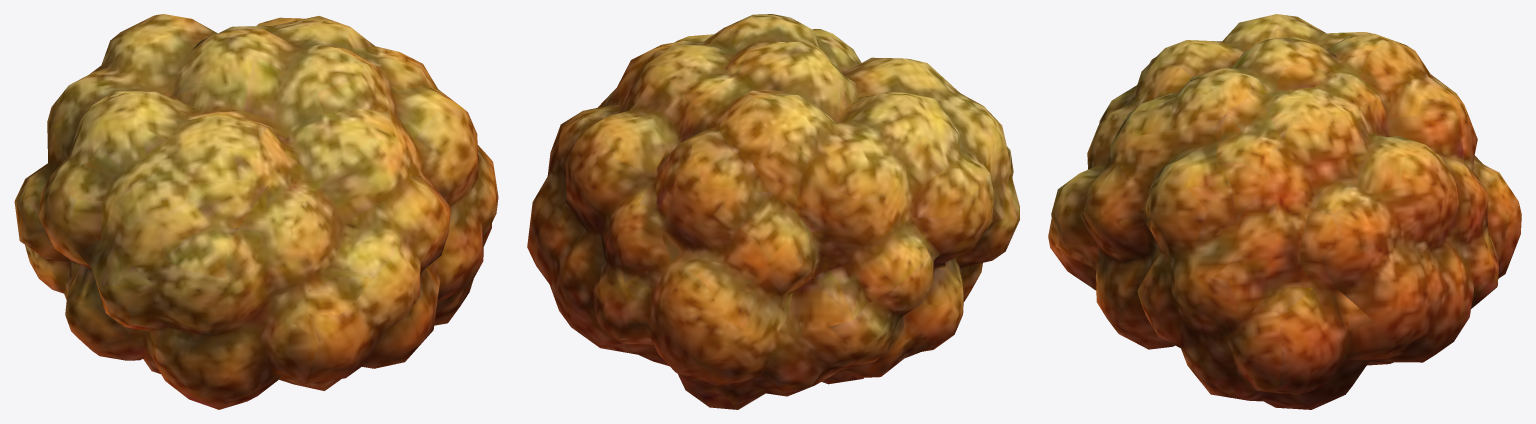
Rendered from bush_autumn_lod1.glb.
The picture shows the model from 3 angles, left to right: view 1: azimuth 30°, elevation 25°; view 2: azimuth 150°, elevation 25°; view 3: azimuth 270°, elevation 25°; orthographic projection. The views are drawn at different scales.
Parts seen in each view (by area): view 1: bush_autumn_low1; view 2: bush_autumn_low1; view 3: bush_autumn_low1.
Part boxes in pixels (left/top/right/bottom): bush_autumn_low1: left=14, top=14, right=498, bottom=409; bush_autumn_low1: left=527, top=14, right=1019, bottom=409; bush_autumn_low1: left=1048, top=14, right=1521, bottom=409.
Size of the model in its own units: 1.49 by 1.07 by 1.48.
1 material, 1 textured.
